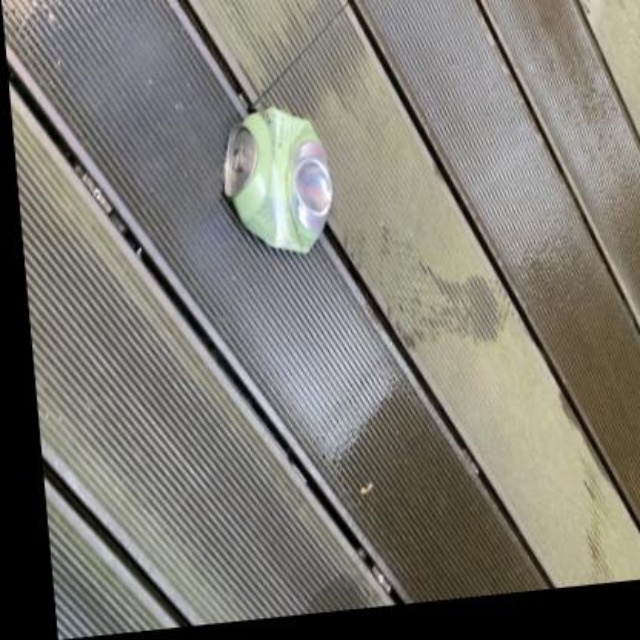trash: (225, 108, 331, 251)
